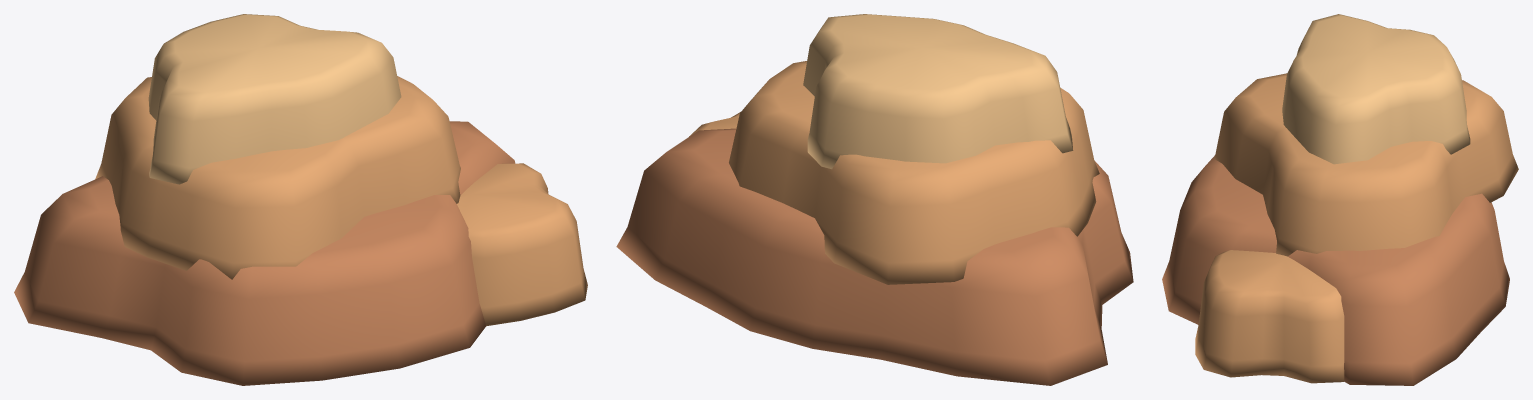
Rendered from mesa-rock.glb.
3 views of the same model, side by side, from view 1: azimuth 30°, elevation 25°; view 2: azimuth 150°, elevation 25°; view 3: azimuth 270°, elevation 25° (orthographic). The views are drawn at different scales.
Visible parts, largest first — view 1: Stratum0, Stratum1, Stratum2, SideOutcrop; view 2: Stratum0, Stratum1, Stratum2; view 3: Stratum0, Stratum1, Stratum2, SideOutcrop.
Boxes of the visible parts, x1,y1,x2,y2 form: Stratum0: (14,121,515,385); Stratum1: (95,76,460,279); Stratum2: (148,14,401,184); SideOutcrop: (457,163,587,326); Stratum0: (616,128,1133,385); Stratum1: (729,61,1099,284); Stratum2: (803,14,1073,169); Stratum0: (1162,155,1509,385); Stratum1: (1214,73,1518,256); Stratum2: (1282,14,1470,164); SideOutcrop: (1195,250,1344,383).
Bounding box in the file's own units: 1.64 × 0.795 × 1.19.
